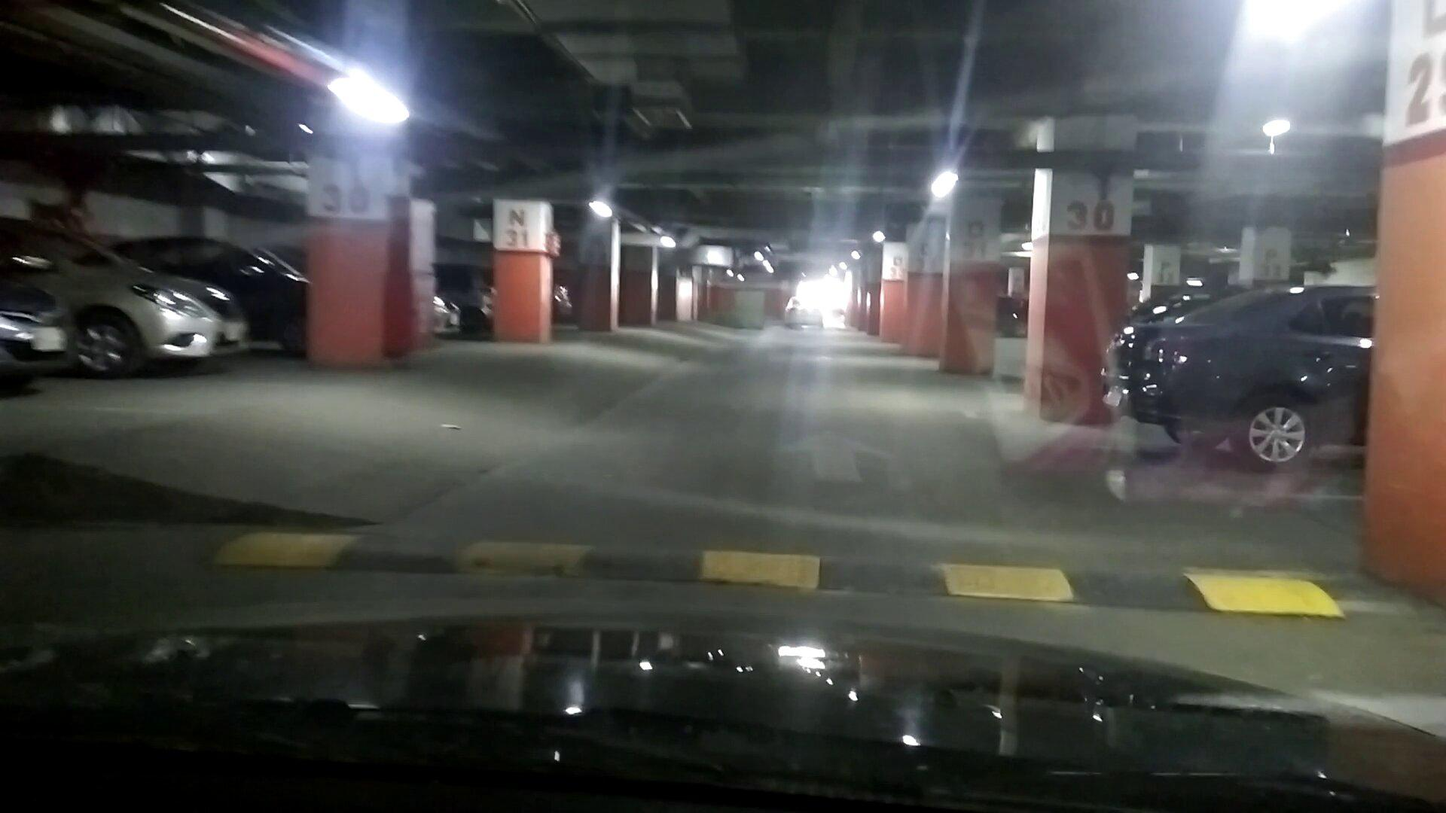Bump: (213, 519, 1391, 640)
